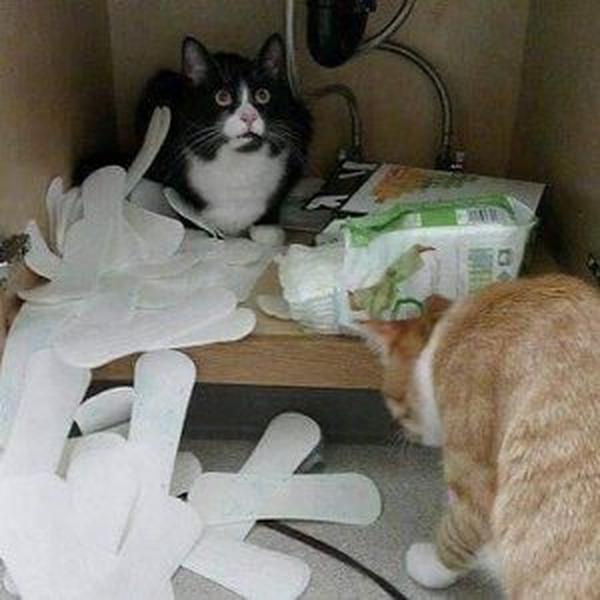michi: (338, 269, 597, 600), (135, 28, 314, 236)
